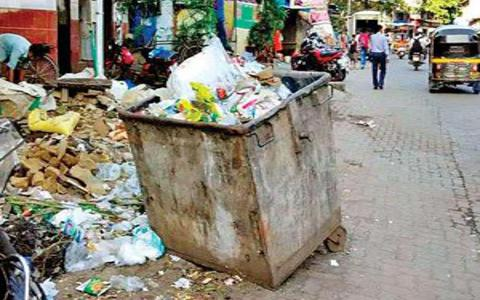overflowing garbage: (62, 68, 336, 281)
